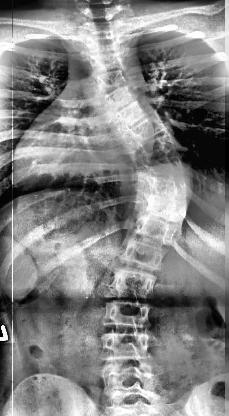Vertebrae: (95, 332, 159, 359), (106, 270, 164, 298), (102, 301, 158, 328), (128, 218, 180, 244), (116, 244, 170, 268), (142, 156, 200, 178), (151, 172, 203, 196), (141, 197, 195, 219), (134, 135, 186, 157), (123, 116, 173, 138), (90, 72, 132, 94), (80, 20, 126, 40), (84, 50, 126, 70), (82, 36, 126, 54), (99, 88, 141, 106), (114, 103, 156, 121)
